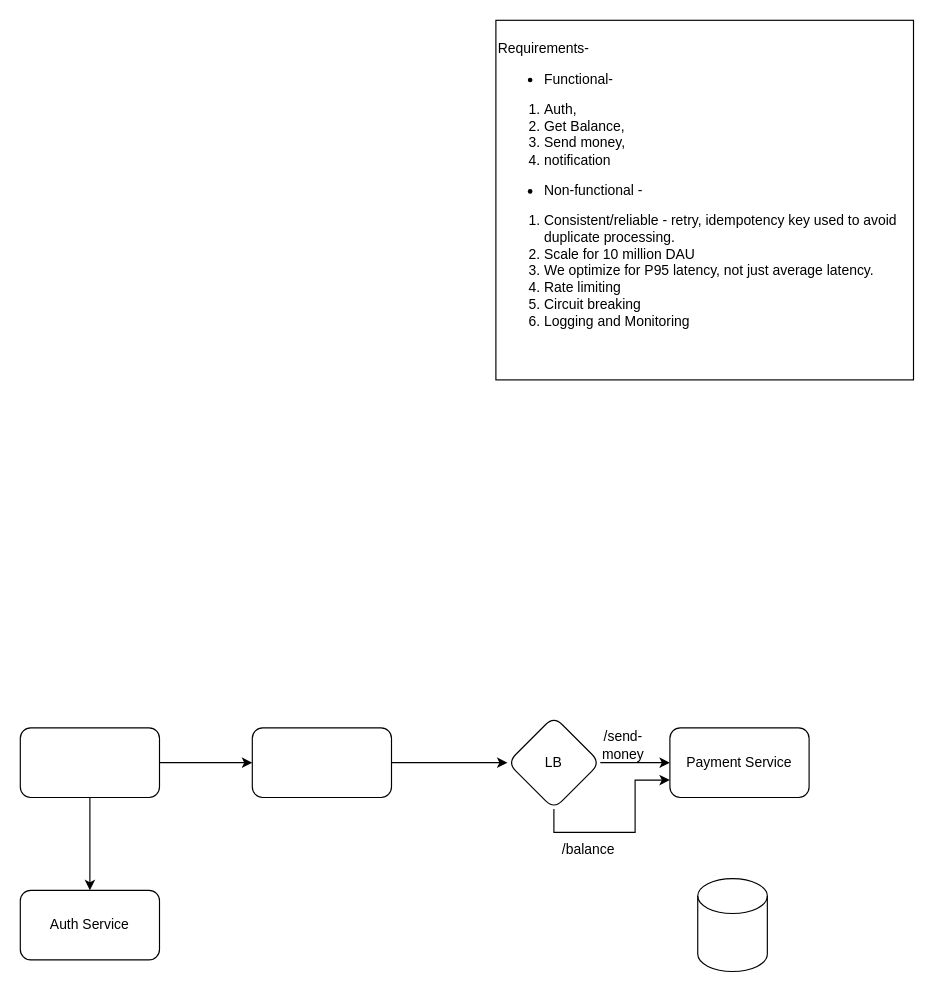
This 934x992 diagram has some shape labels left out. The shapes that lost their labels are listed below. From the top down, each one's centre as x and y in pixels, then its label:
At [89,762]: "client".
At [321,762]: "API Gateway".
